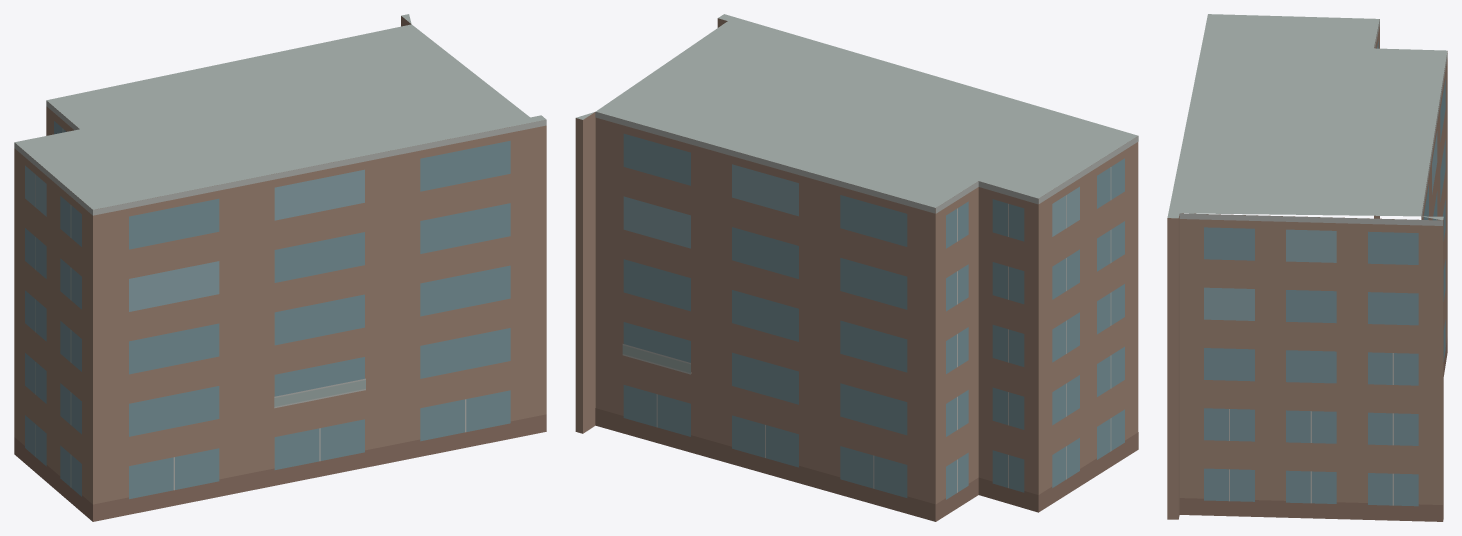
Rendered from survey-upis-32714804.glb.
3 renders of one model, left to right at view 1: azimuth 30°, elevation 25°; view 2: azimuth 150°, elevation 25°; view 3: azimuth 270°, elevation 25°, orthographic. The views are drawn at different scales.
Visible parts, largest first — view 1: survey-upis-32714804.tmp; view 2: survey-upis-32714804.tmp; view 3: survey-upis-32714804.tmp.
Boxes of the visible parts, x1=… form: survey-upis-32714804.tmp: x1=14, y1=14, x2=546, y2=521; survey-upis-32714804.tmp: x1=575, y1=14, x2=1138, y2=521; survey-upis-32714804.tmp: x1=1167, y1=14, x2=1447, y2=521.
Bounding box in the file's own units: 19.25 × 13.1 × 11.05.
